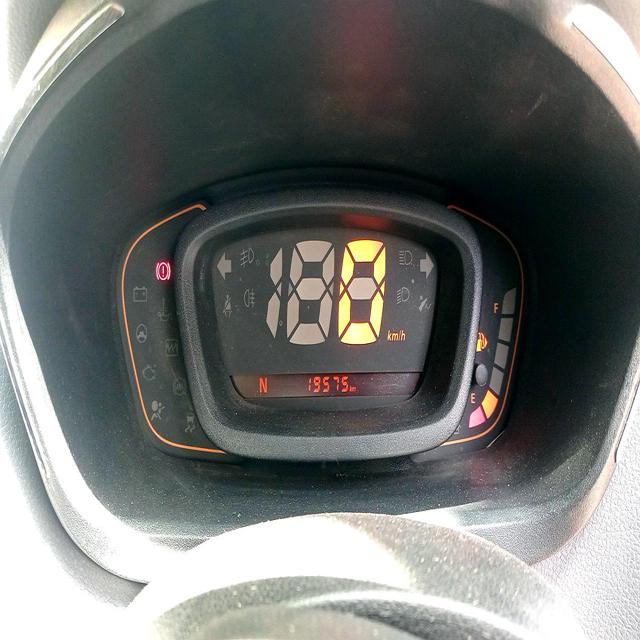odometer: (306, 374, 349, 393)
